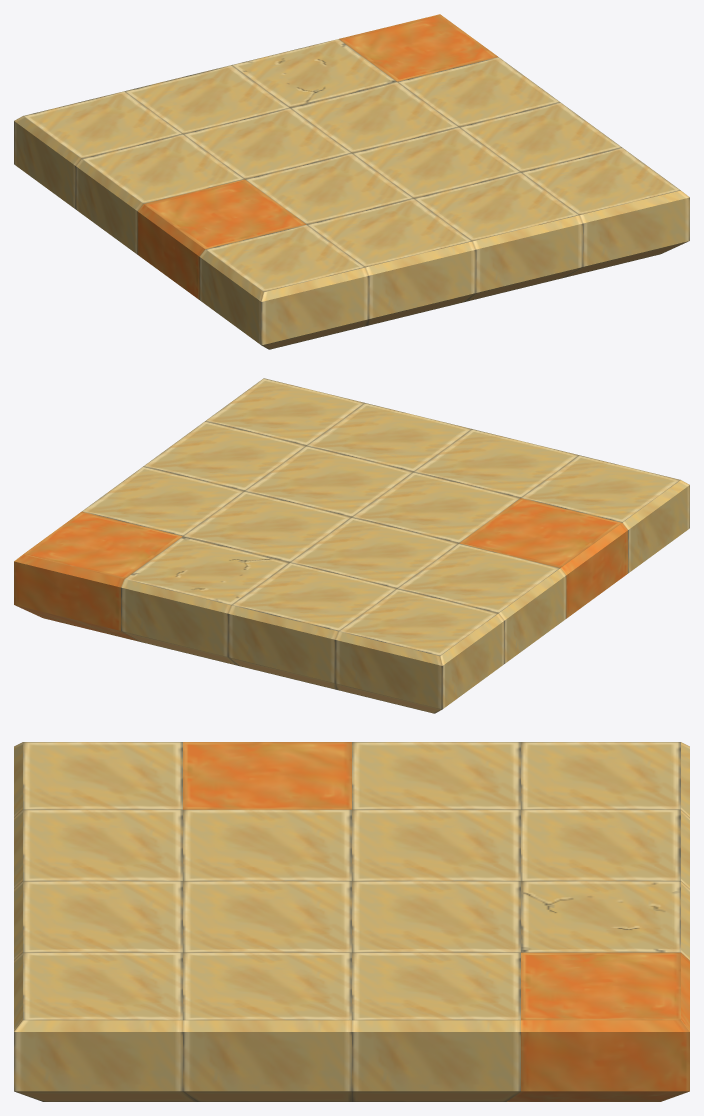
The model's file is platform2.fbx.
The picture shows the model from 3 angles, top to bottom: view 1: azimuth 30°, elevation 25°; view 2: azimuth 150°, elevation 25°; view 3: azimuth 270°, elevation 25°; orthographic projection. The views are drawn at different scales.
Parts seen in each view (by area): view 1: Platform2; view 2: Platform2; view 3: Platform2.
Boxes of the visible parts, <box> form: Platform2: <box>14,14,689,349</box>; Platform2: <box>14,378,689,713</box>; Platform2: <box>14,742,689,1101</box>.
Size of the model in its own units: 400 by 58.9 by 400.
1 material, 1 textured.
